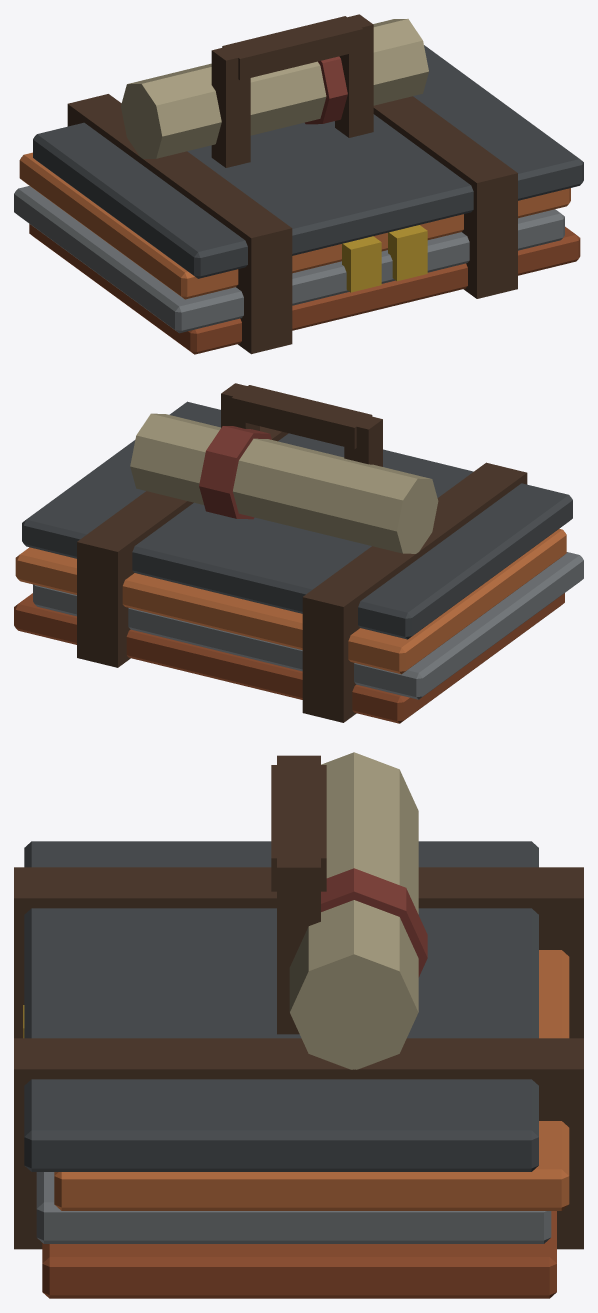
The model's file is item_armor_kit_mk2.glb.
3 renders of one model, top to bottom at view 1: azimuth 30°, elevation 25°; view 2: azimuth 150°, elevation 25°; view 3: azimuth 270°, elevation 25°, orthographic. The views are drawn at different scales.
Visible parts, largest first — view 1: armor_kit; view 2: armor_kit; view 3: armor_kit.
Part boxes in pixels (x1,y1,x2,y2): armor_kit: (14,14,583,354); armor_kit: (14,383,583,723); armor_kit: (14,752,583,1298).
Bounding box in the file's own units: 0.3967 × 0.202 × 0.31.
